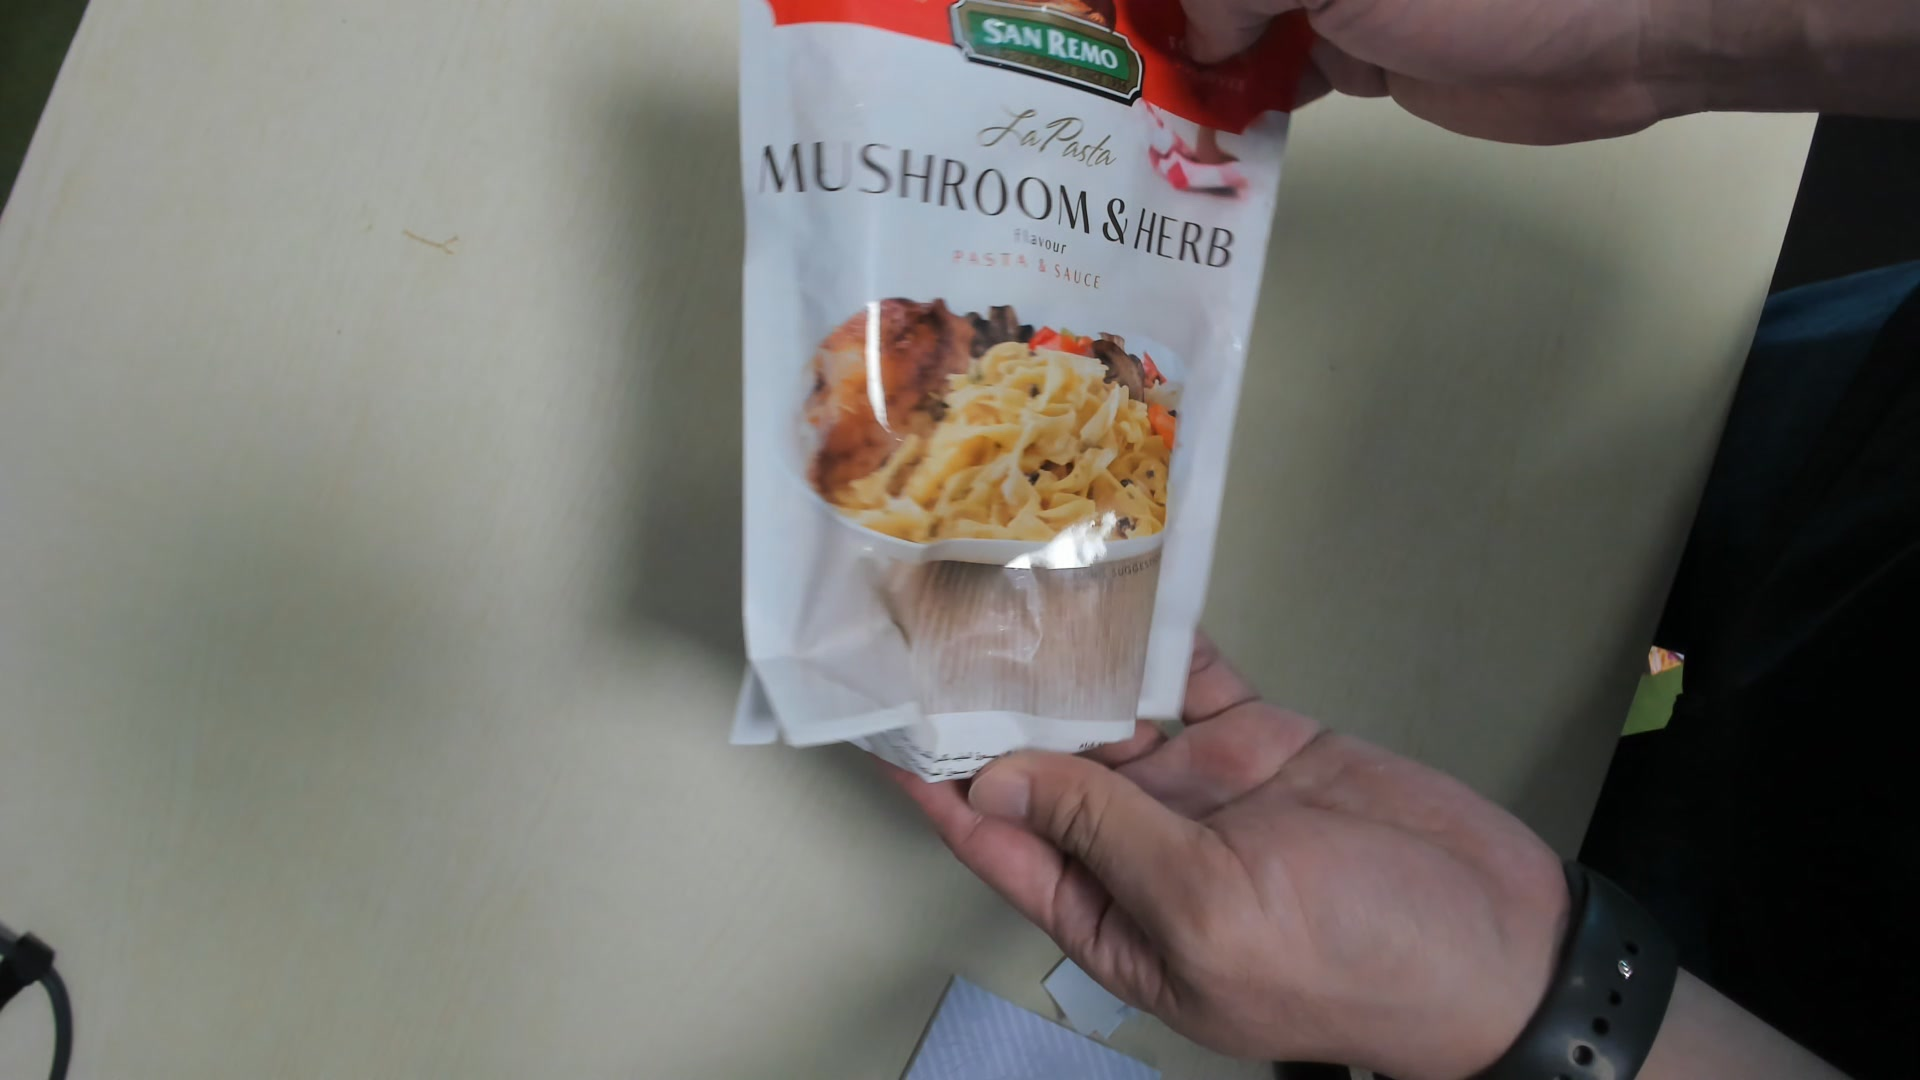InstantMeals_100-199g_NonHalal_Healthy: (735, 1, 1290, 756)
